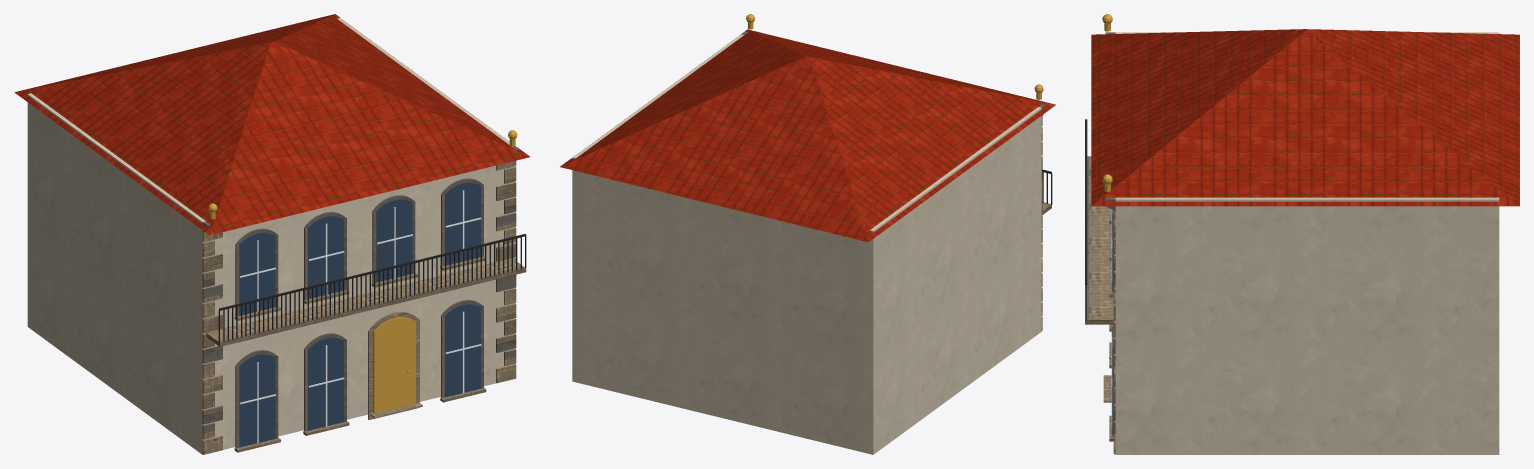
The model's file is sobrado_w10_1.gltf.
3 views of the same model, side by side, from view 1: azimuth 30°, elevation 25°; view 2: azimuth 150°, elevation 25°; view 3: azimuth 270°, elevation 25° (orthographic). The views are drawn at different scales.
Parts seen in each view (by area): view 1: sobrado_w10_1; view 2: sobrado_w10_1; view 3: sobrado_w10_1.
Part boxes in pixels (x1=…): sobrado_w10_1: x1=14, y1=14, x2=529, y2=454; sobrado_w10_1: x1=560, y1=14, x2=1055, y2=454; sobrado_w10_1: x1=1085, y1=14, x2=1519, y2=454.
Size of what is drawn, in the model's own units: 9.96 by 9.37 by 10.65.
6 materials, 3 textured.
